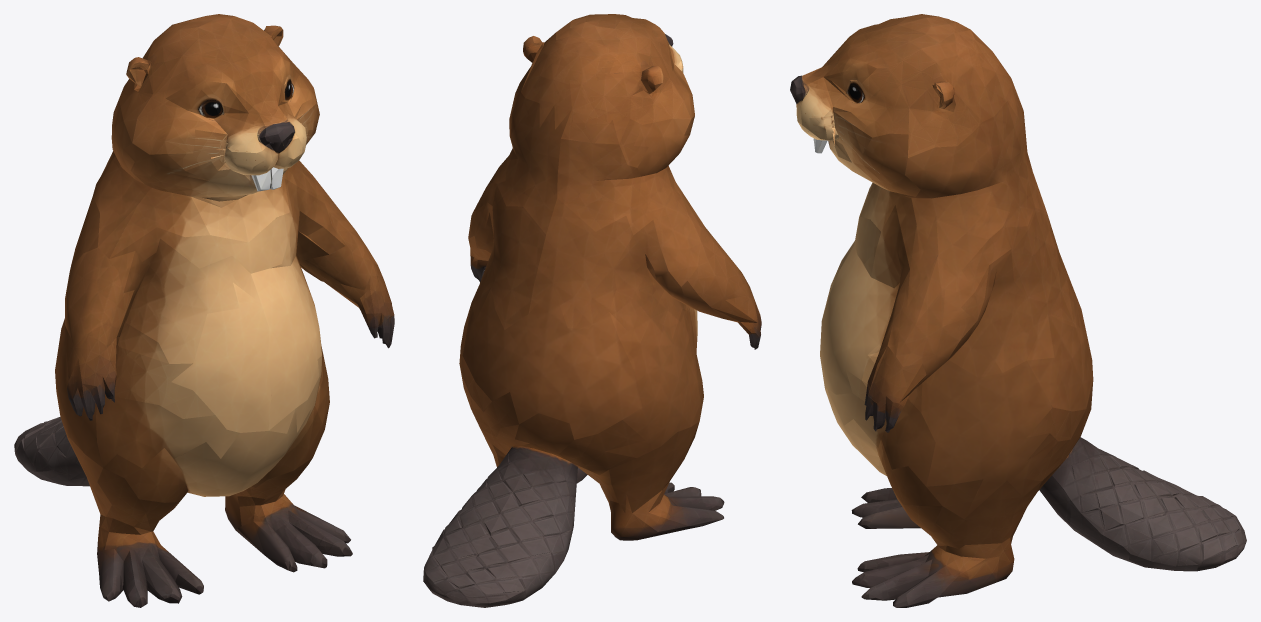
Rendered from beaver.glb.
3 renders of one model, left to right at view 1: azimuth 30°, elevation 25°; view 2: azimuth 150°, elevation 25°; view 3: azimuth 270°, elevation 25°, orthographic. The views are drawn at different scales.
Visible parts, largest first — view 1: output_unwrapped; view 2: output_unwrapped; view 3: output_unwrapped.
Boxes of the visible parts, x1,y1,x2,y2 form: output_unwrapped: (14, 14, 394, 607); output_unwrapped: (423, 14, 761, 607); output_unwrapped: (790, 14, 1246, 607).
Size of the model in its own units: 1.2 by 1.9 by 1.5.
Materials: 1 (1 with a texture image).
